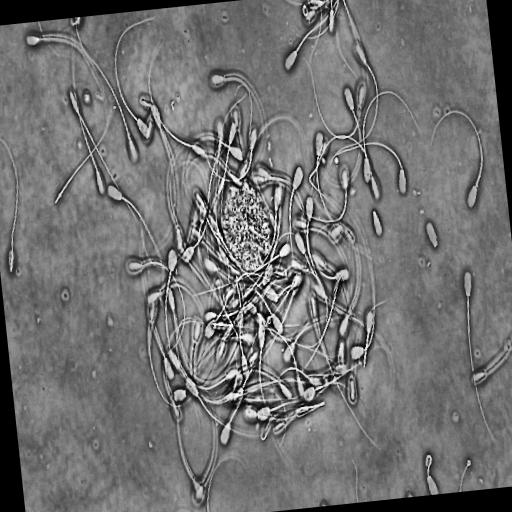coiled-tail: (296, 401, 325, 418), (363, 333, 370, 370), (364, 332, 369, 367)
dirt-particles: (220, 170, 274, 276)
folded-tail: (0, 138, 18, 272), (426, 454, 432, 476)
loose-head: (423, 211, 442, 256), (369, 203, 390, 242), (173, 387, 187, 402)
loose-tail: (52, 96, 113, 210)
normal: (306, 293, 383, 459), (64, 84, 140, 235), (315, 131, 379, 268), (78, 41, 140, 166), (107, 184, 166, 305), (459, 262, 497, 448), (328, 43, 381, 173), (125, 255, 187, 364), (148, 48, 208, 159), (112, 14, 160, 145), (429, 105, 485, 213), (185, 375, 276, 440), (210, 70, 270, 167), (71, 25, 105, 195), (324, 135, 410, 202), (249, 326, 306, 400), (282, 0, 341, 71), (0, 120, 24, 282), (194, 125, 259, 183), (290, 166, 349, 226), (305, 195, 330, 323), (338, 221, 363, 341), (164, 246, 185, 384), (288, 164, 305, 274), (295, 399, 329, 420), (424, 451, 440, 494), (363, 309, 374, 370)
